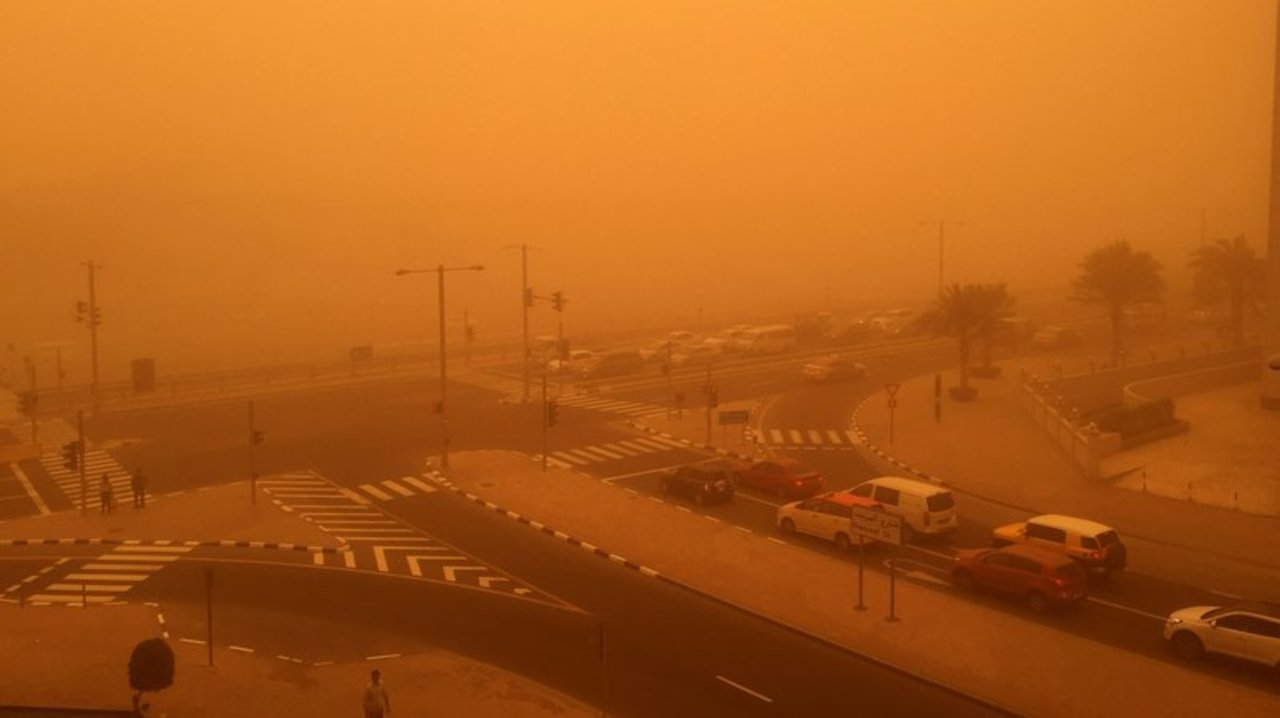car: (953, 541, 1090, 614), (1162, 601, 1279, 671), (1006, 511, 1124, 579), (848, 476, 955, 544), (782, 492, 881, 552), (661, 460, 732, 509), (743, 458, 818, 492), (803, 353, 862, 382), (737, 329, 793, 357), (1034, 323, 1083, 348), (532, 333, 568, 363), (547, 346, 595, 366), (870, 310, 911, 331), (705, 331, 735, 353), (661, 326, 695, 345)
person: (360, 670, 395, 717), (97, 470, 114, 515), (130, 468, 148, 505)
